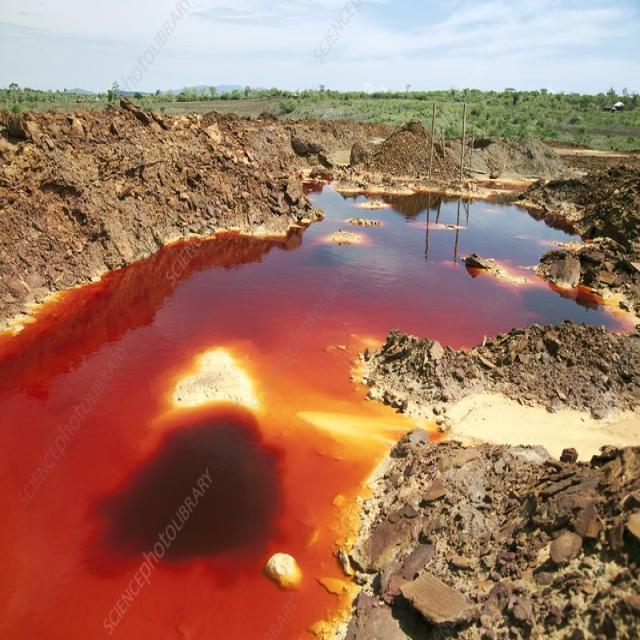0: (174, 349, 261, 413), (264, 553, 297, 575)
yellow_boy: (0, 237, 378, 639)
